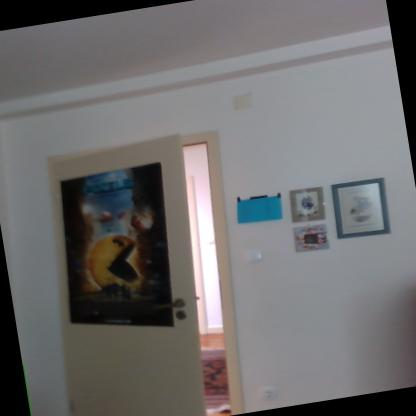semi: (18, 104, 269, 415)
